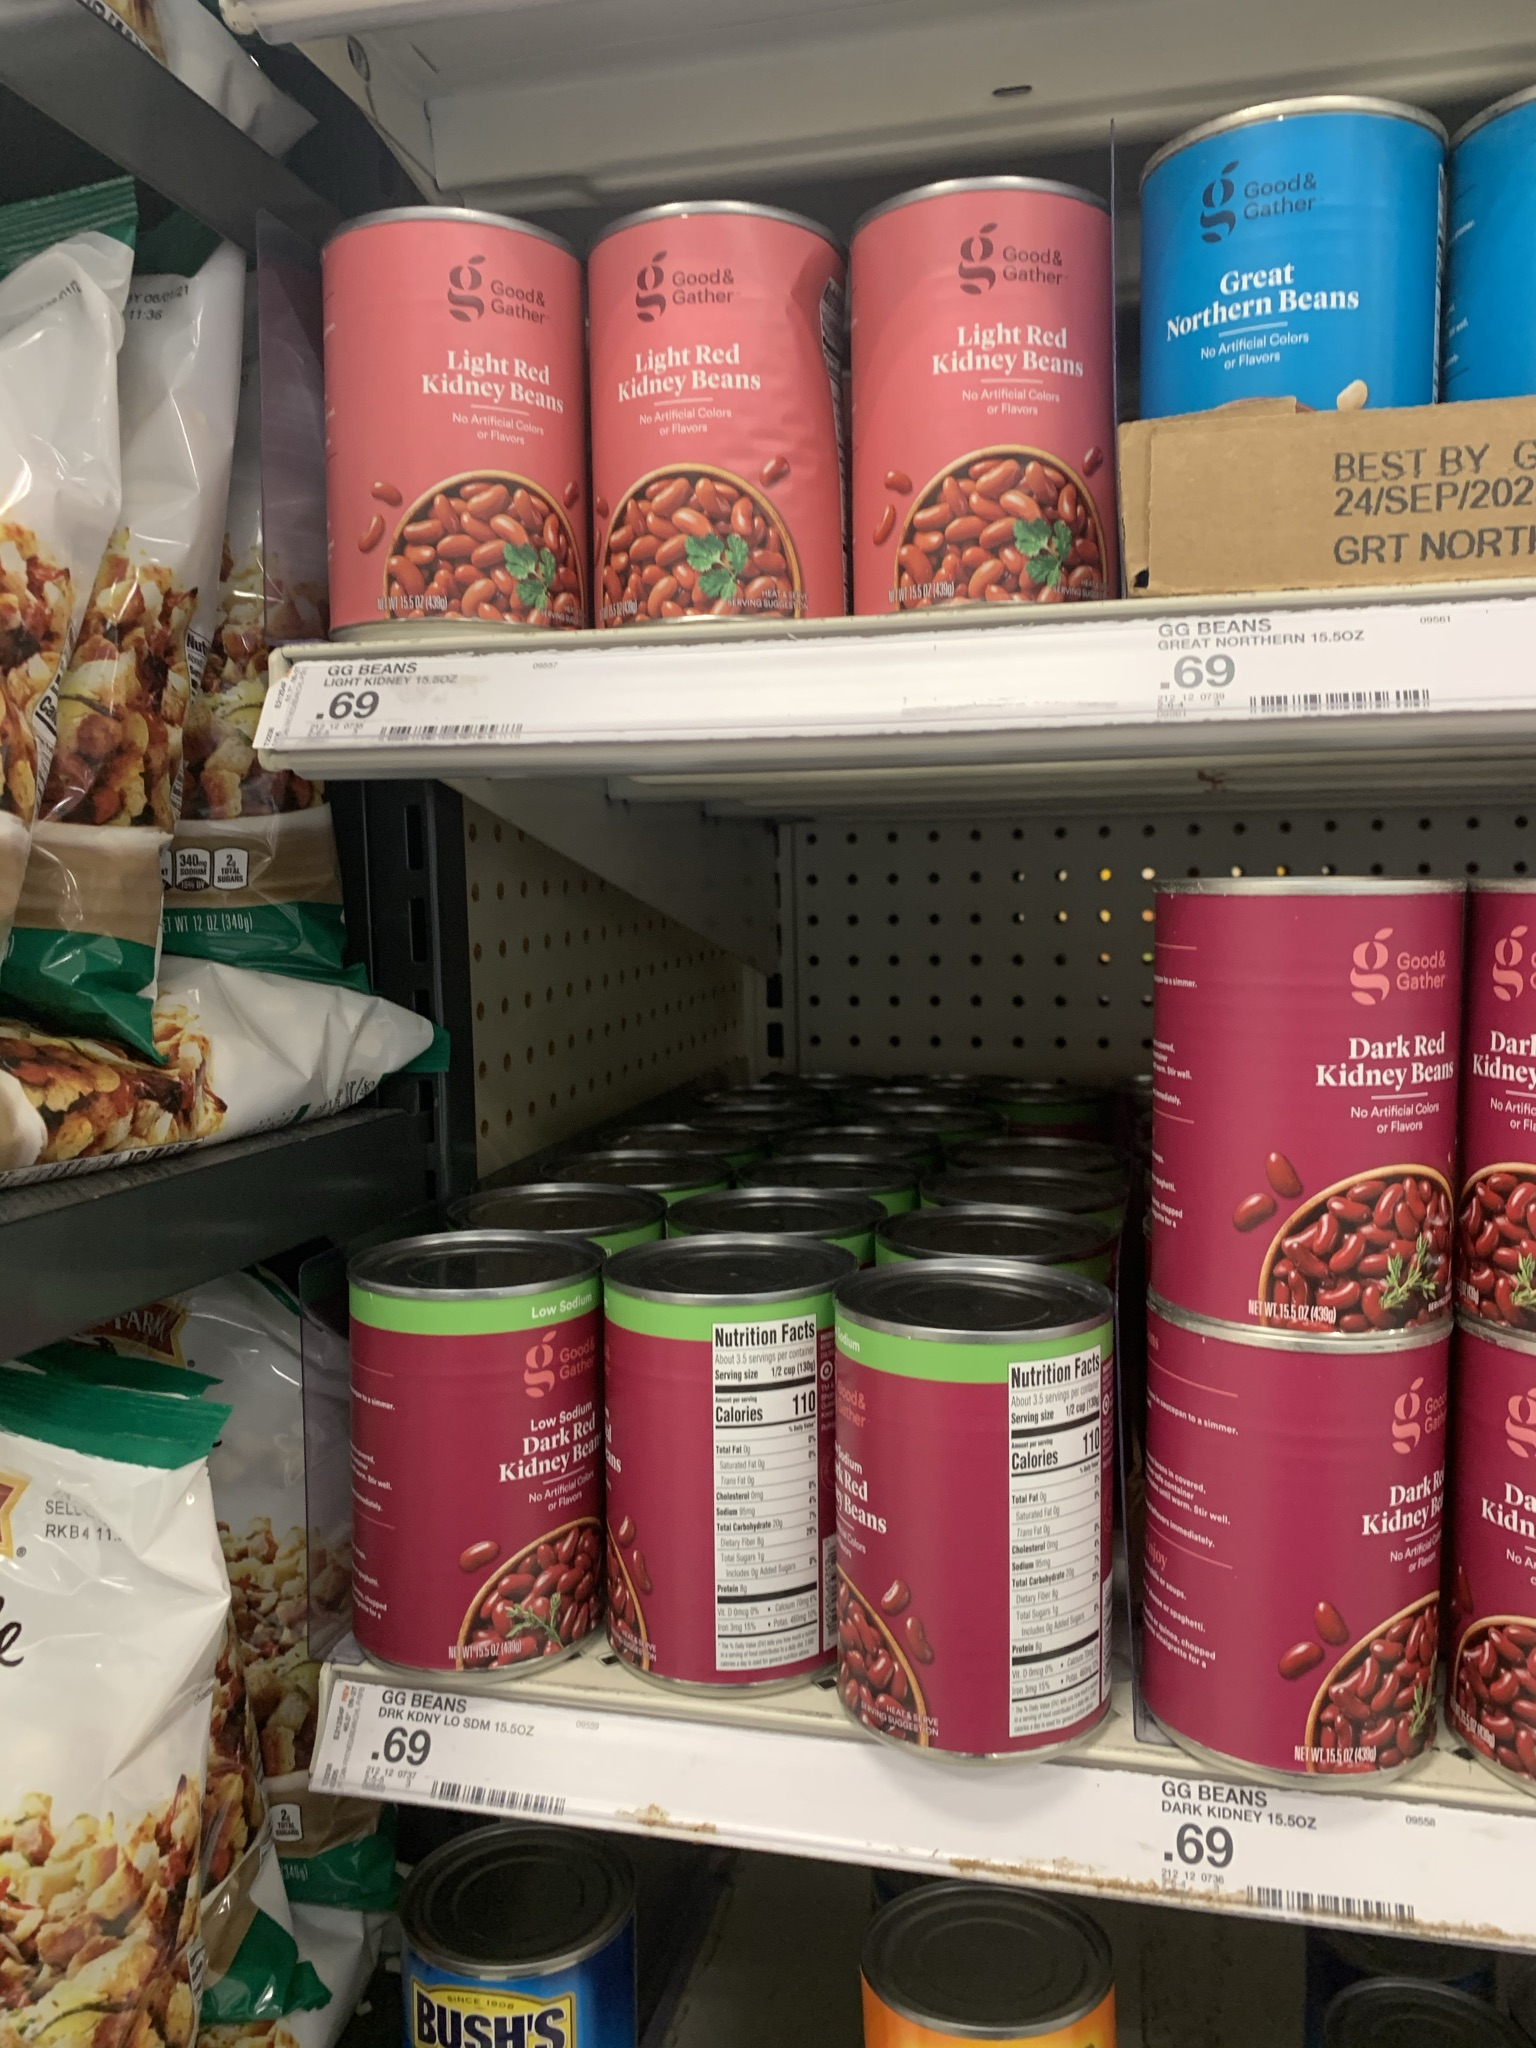can: (1167, 887, 1442, 1322), (1160, 1340, 1431, 1751), (842, 1330, 1112, 1721), (331, 240, 586, 627), (857, 226, 1107, 598), (353, 1284, 591, 1658), (608, 234, 837, 619), (608, 1287, 824, 1675), (1152, 155, 1441, 408)
